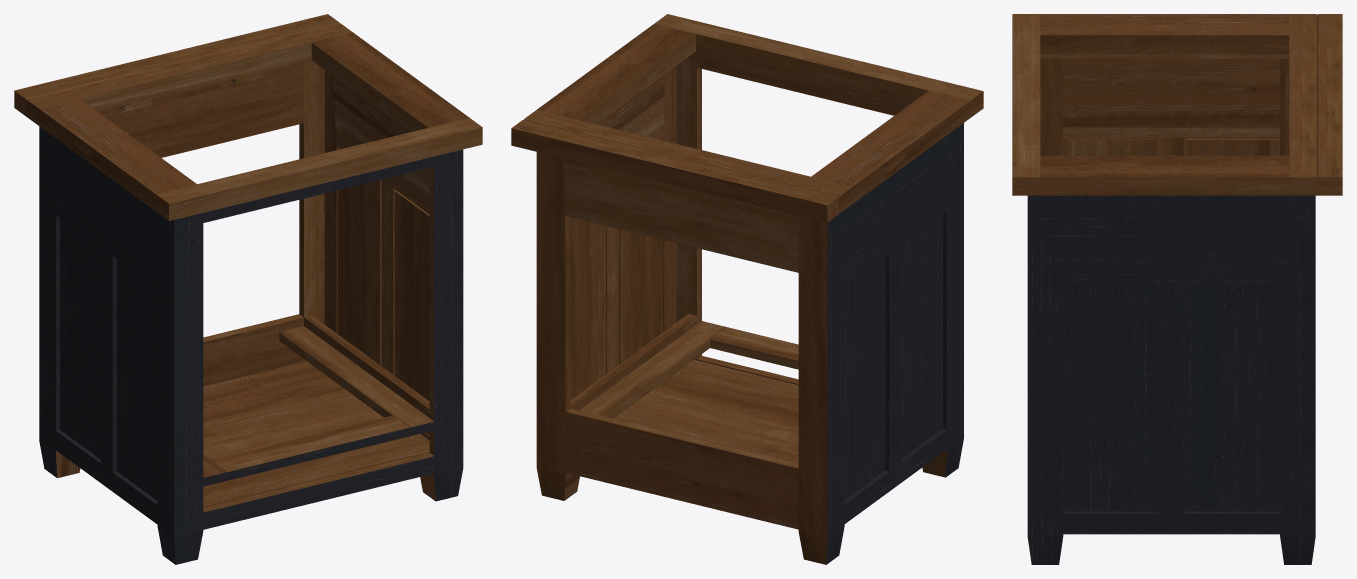
Rendered from example105.gltf.
The picture shows the model from 3 angles, left to right: view 1: azimuth 30°, elevation 25°; view 2: azimuth 150°, elevation 25°; view 3: azimuth 270°, elevation 25°; orthographic projection. The views are drawn at different scales.
Bounding box in the file's own units: 76 × 86 × 65.
2 materials, 2 textured.
